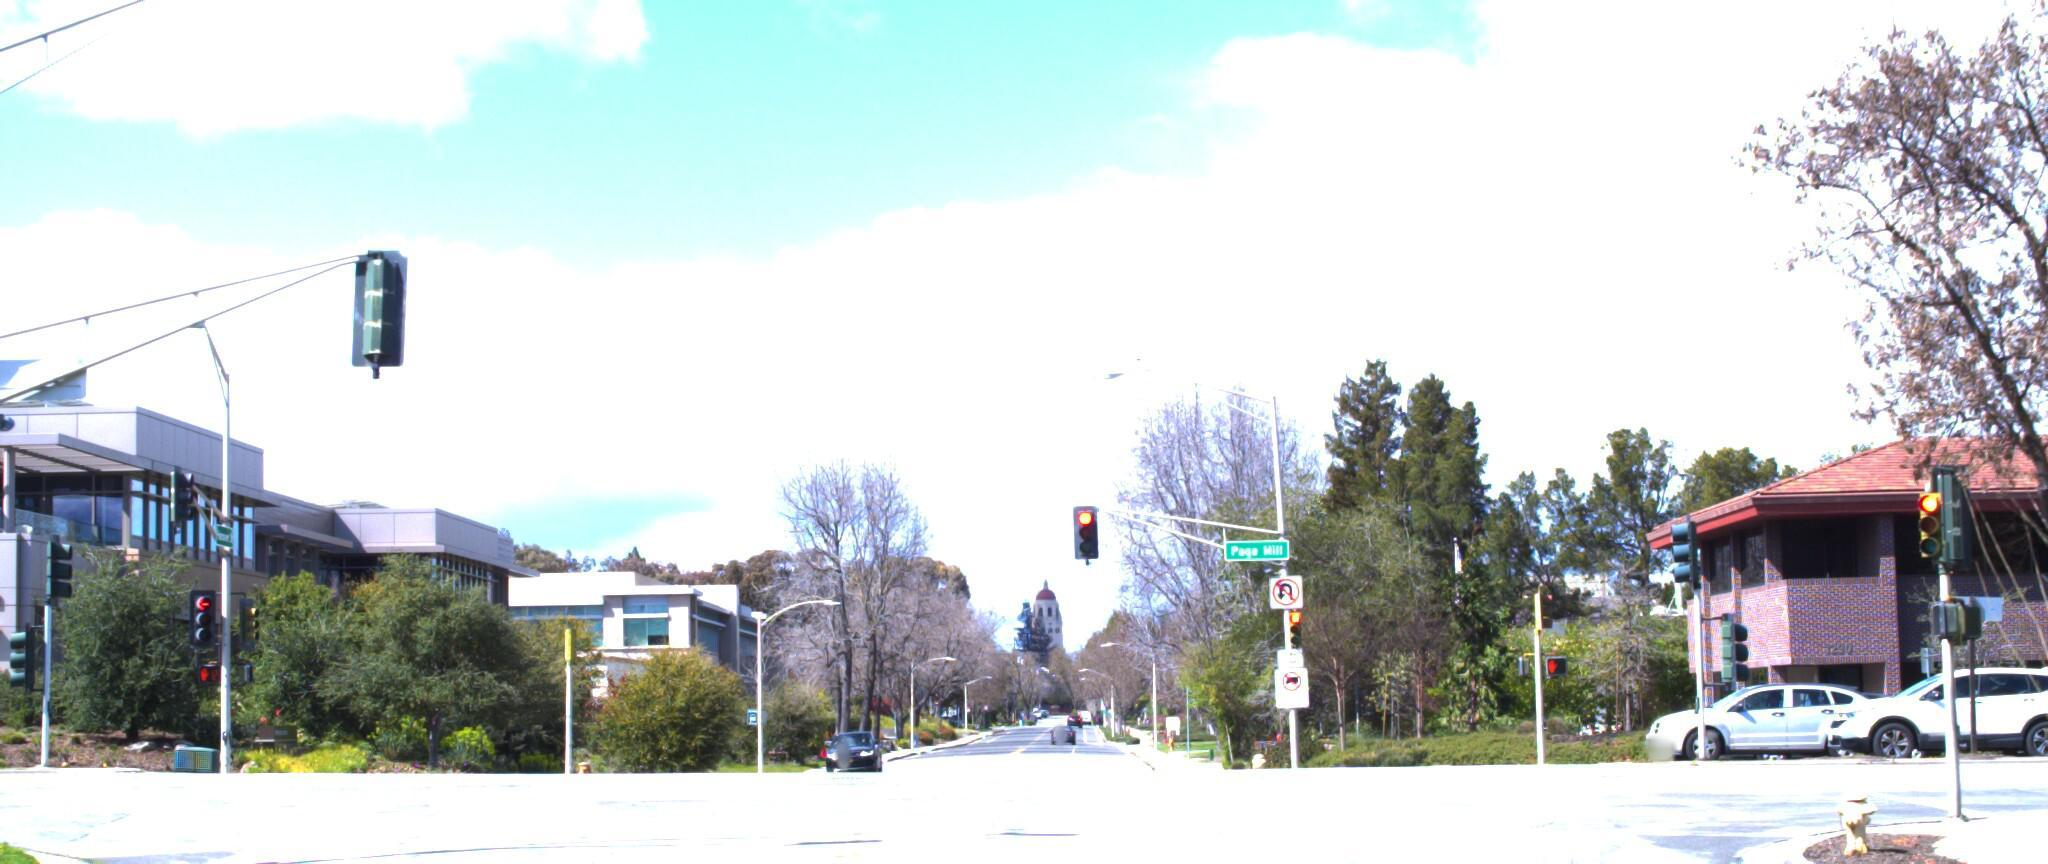car: (1799, 656, 2048, 765), (1624, 677, 1883, 769), (0, 666, 16, 783)
